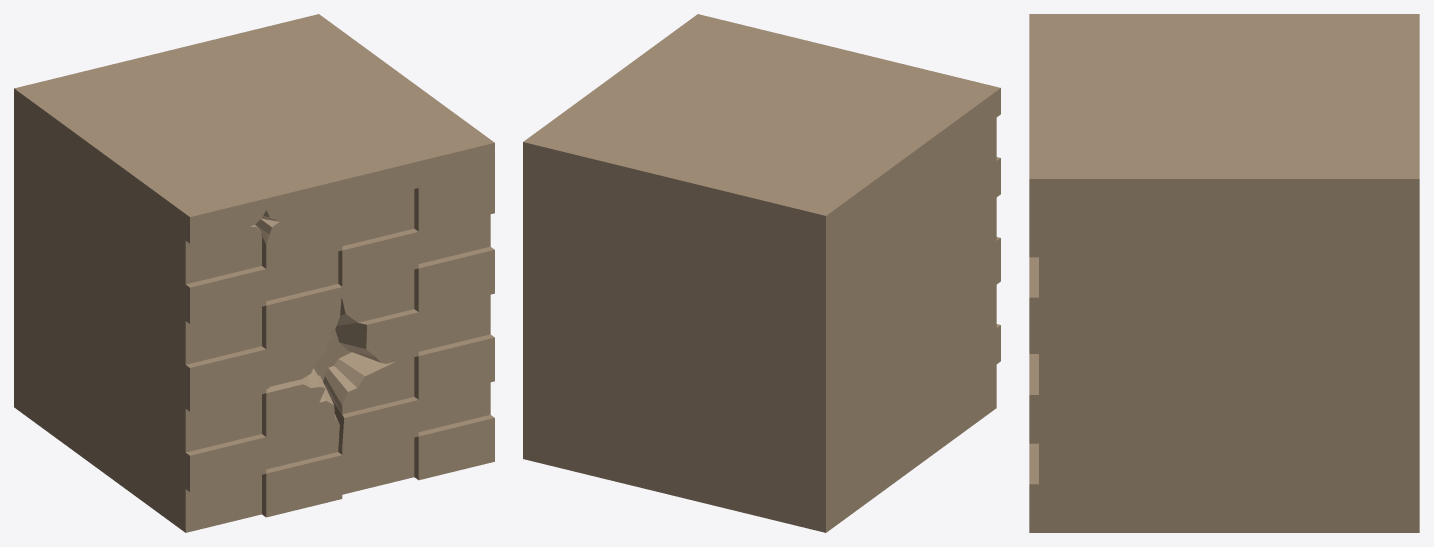
File: outerWall_broken2_5.4..fbx
3 views of the same model, side by side, from view 1: azimuth 30°, elevation 25°; view 2: azimuth 150°, elevation 25°; view 3: azimuth 270°, elevation 25° (orthographic). The views are drawn at different scales.
Parts seen in each view (by area): view 1: outerWall_broken2; view 2: outerWall_broken2; view 3: outerWall_broken2.
Boxes of the visible parts, x1,y1,x2,y2 form: outerWall_broken2: (14, 14, 494, 532); outerWall_broken2: (523, 14, 1000, 532); outerWall_broken2: (1029, 14, 1419, 532).
Size of the model in its own units: 400 by 400 by 400.
